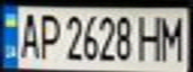2: (60, 11, 84, 62), (97, 12, 118, 62)
6: (78, 11, 100, 62)
8: (115, 11, 139, 62)
A: (15, 9, 42, 61)
H: (136, 11, 166, 62)
M: (157, 11, 190, 62)
P: (33, 10, 63, 61)
